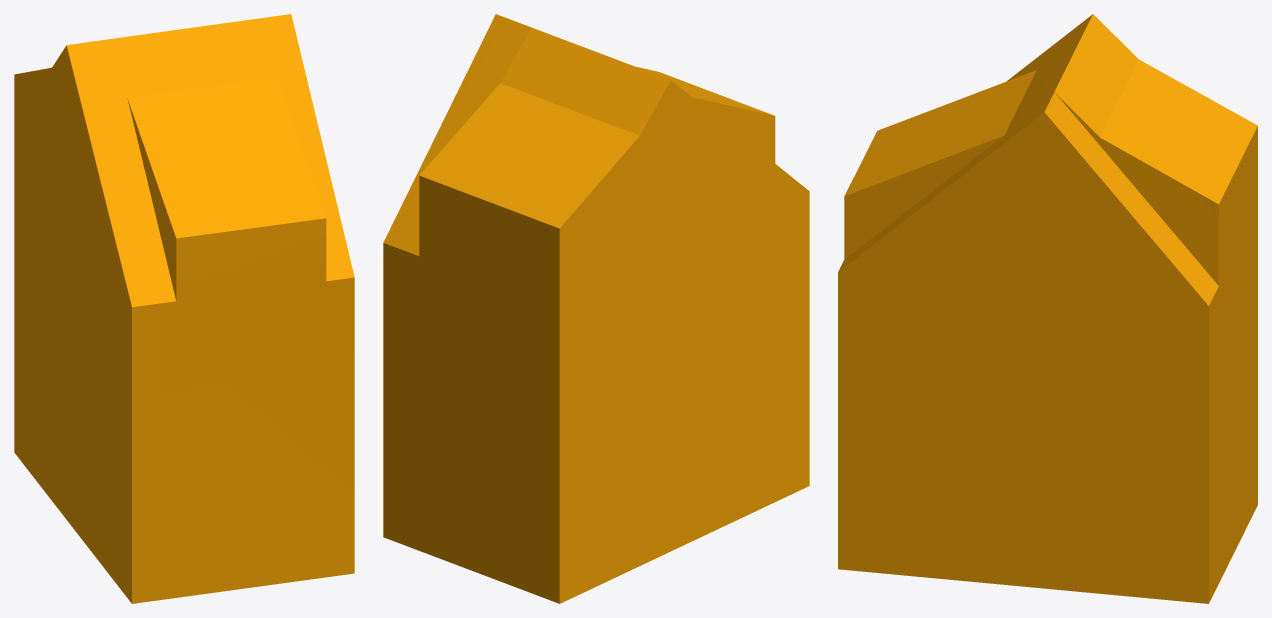
Rendered from DEHB01AL4Cw0006j.gltf.
3 views of the same model, side by side, from view 1: azimuth 30°, elevation 25°; view 2: azimuth 150°, elevation 25°; view 3: azimuth 270°, elevation 25° (orthographic).
Parts seen in each view (by area): view 1: Z_UP; view 2: Z_UP; view 3: Z_UP.
Part boxes in pixels (bbox=[...]): Z_UP: bbox=[14, 14, 354, 603]; Z_UP: bbox=[383, 14, 809, 603]; Z_UP: bbox=[838, 14, 1257, 603].
Bounding box in the file's own units: 7.5 × 12.64 × 10.1.
